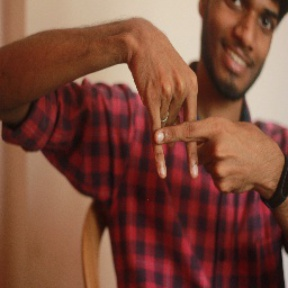H: (130, 90, 228, 201)
